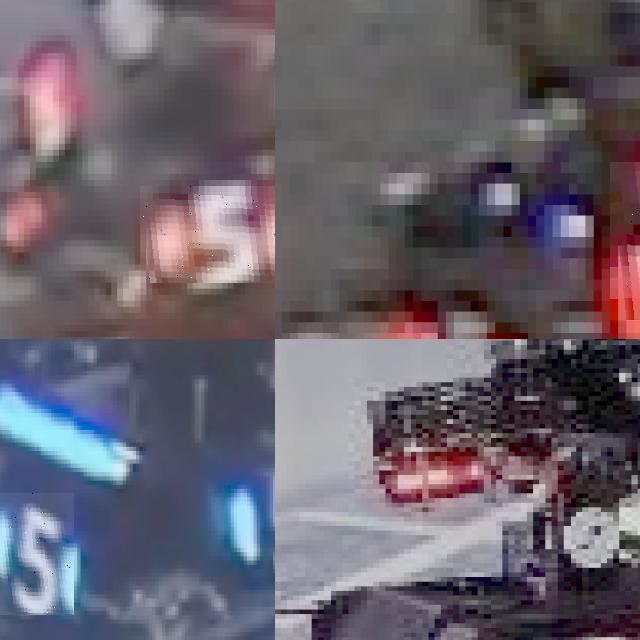B5: (0, 493, 73, 615), (230, 459, 275, 568)
R5: (140, 186, 275, 282), (388, 301, 527, 339)
